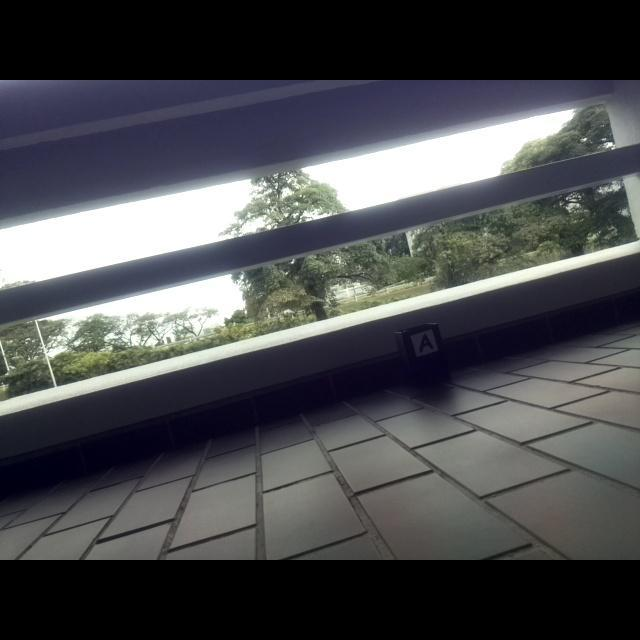A: (420, 335, 433, 353)
